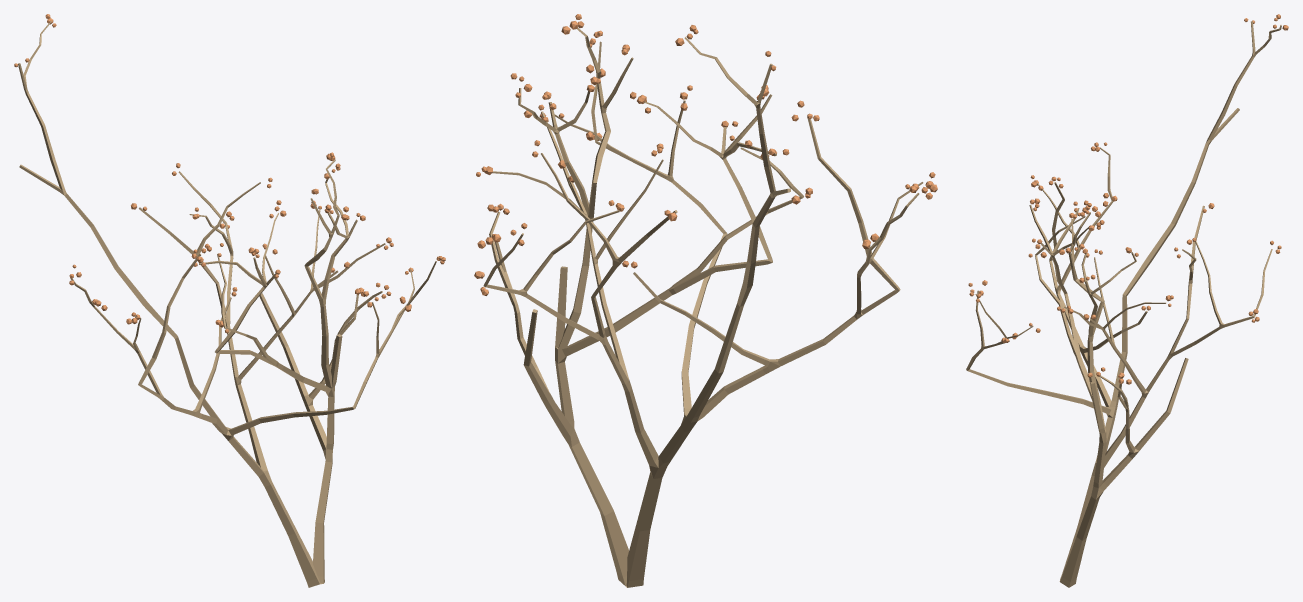
The picture shows the model from 3 angles, left to right: view 1: azimuth 30°, elevation 25°; view 2: azimuth 150°, elevation 25°; view 3: azimuth 270°, elevation 25°; orthographic projection. The views are drawn at different scales.
Parts seen in each view (by area): view 1: Arbusto; view 2: Arbusto; view 3: Arbusto.
Boxes of the visible parts, x1,y1,x2,y2 form: Arbusto: [18, 21, 436, 587]; Arbusto: [483, 28, 923, 587]; Arbusto: [966, 21, 1281, 587].
Bounding box in the file's own units: 1.79 × 2.8 × 1.64.
